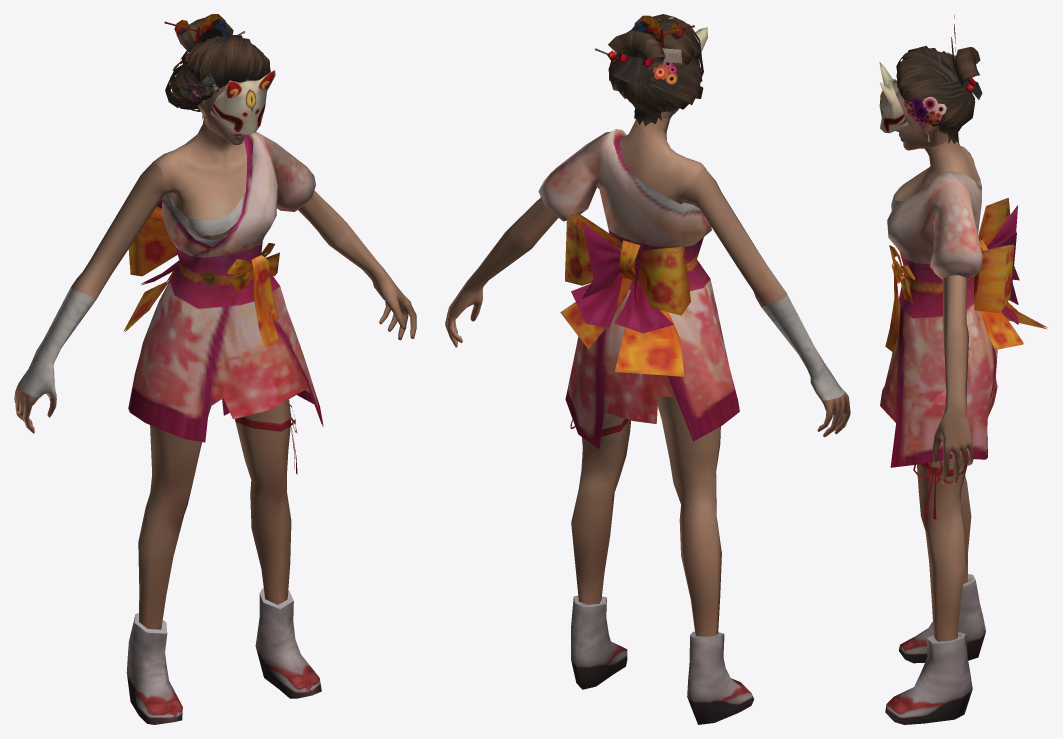
3 renders of one model, left to right at view 1: azimuth 30°, elevation 25°; view 2: azimuth 150°, elevation 25°; view 3: azimuth 270°, elevation 25°, orthographic. The views are drawn at different scales.
Visible parts, largest first — view 1: Mesh_0012.rip; view 2: Mesh_0012.rip; view 3: Mesh_0012.rip.
Part boxes in pixels (box(x1,y1,x2,y2)): Mesh_0012.rip: box(14, 14, 416, 724); Mesh_0012.rip: box(445, 14, 850, 724); Mesh_0012.rip: box(879, 15, 1047, 724).
Size of the model in its own units: 1.16 by 1.91 by 0.4496.
